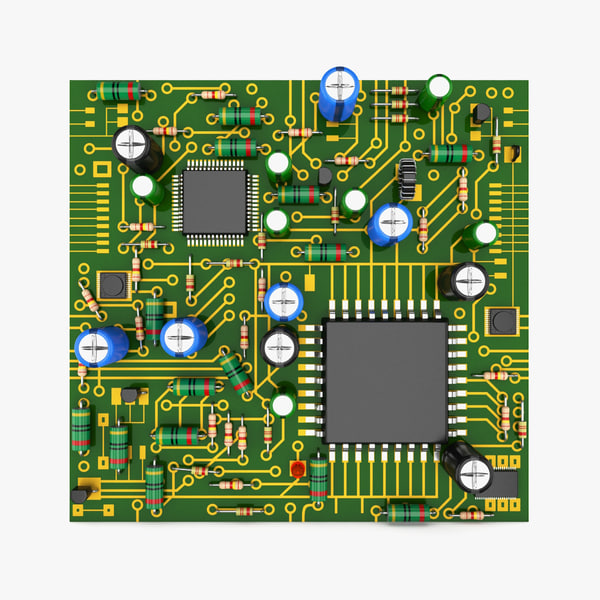capacitor: (74, 326, 129, 370), (321, 63, 359, 121), (450, 444, 494, 494), (368, 201, 411, 248), (264, 276, 306, 319), (160, 319, 204, 360), (447, 262, 491, 303), (259, 330, 298, 368), (263, 150, 297, 188), (112, 128, 152, 159), (130, 172, 163, 209), (259, 210, 292, 238), (268, 391, 298, 420), (336, 189, 368, 216), (466, 220, 497, 245), (424, 76, 453, 101)
